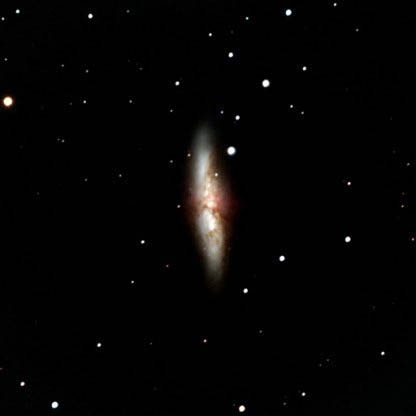Messier 82: (171, 103, 251, 294)
